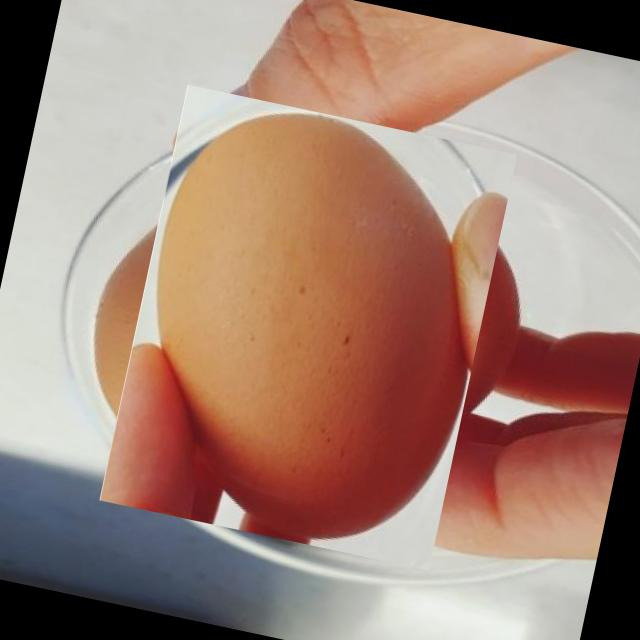eggs: (82, 101, 534, 553)
